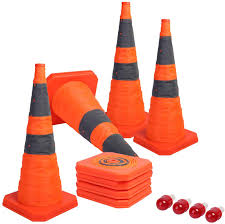cones: (4, 64, 76, 218), (46, 71, 140, 159), (140, 18, 201, 150), (107, 2, 145, 138)
